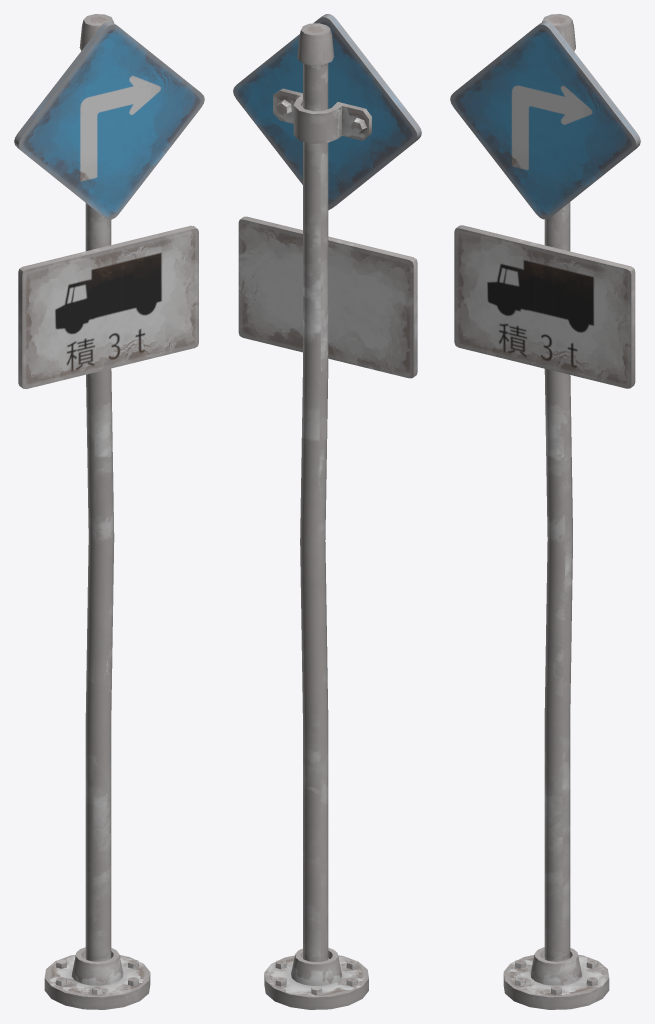
File: SM_roadsign_04.fbx
3 views of the same model, side by side, from view 1: azimuth 30°, elevation 25°; view 2: azimuth 150°, elevation 25°; view 3: azimuth 330°, elevation 25° (orthographic).
Parts seen in each view (by area): view 1: Object32302; view 2: Object32302; view 3: Object32302.
Boxes of the visible parts, x1,y1,x2,y2 form: Object32302: (14, 14, 204, 1009); Object32302: (233, 14, 421, 1009); Object32302: (450, 14, 640, 1009).
Bounding box in the file's own units: 22.96 × 115 × 11.39.
